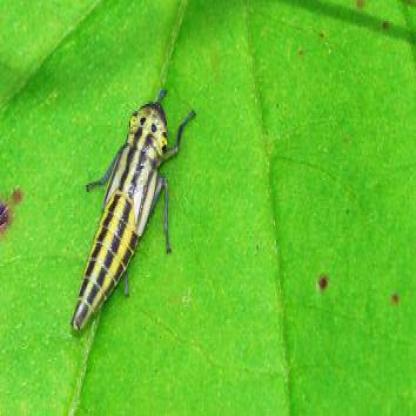Green-Leafhopper: (70, 85, 197, 339)
